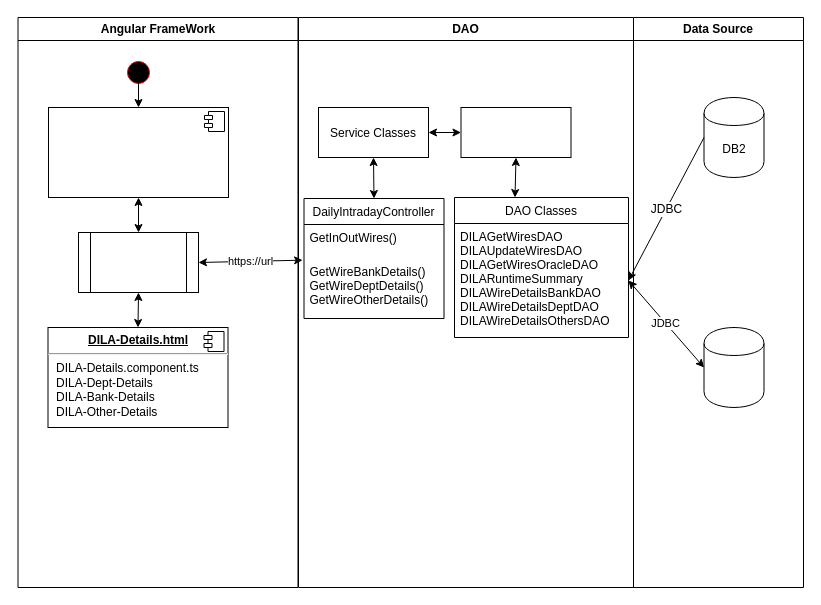
Image size: 821x605. Some labels were removed from this diagram. Here are the shapes that lost their labels. From the top down, the centre of each, then its label:
point (138, 152): DILA-Home.html DILA-Home-Component.ts Function: Get Wire Details
point (515, 132): Spring Beans
point (138, 262): Angular Service
point (733, 367): Oracle Database
